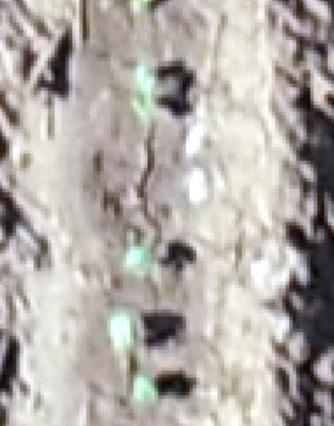cotton: (110, 315, 135, 346), (131, 85, 153, 112), (134, 61, 154, 86), (134, 376, 156, 398), (130, 245, 149, 266)
